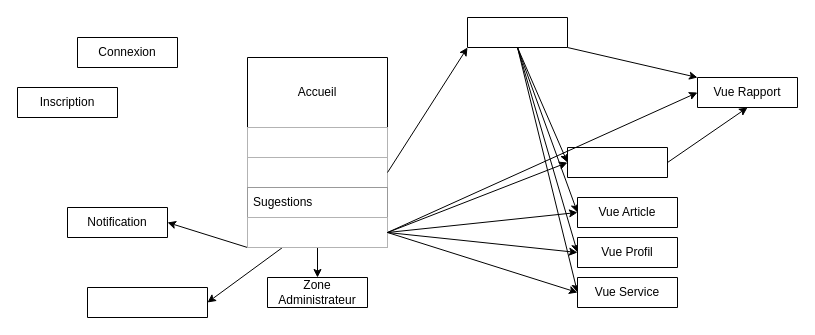
Some shapes in this 815 by 335 pixel diagram are drawn without their labels. The box of each missing label's shape, as (x1, y1, x2, y2) in pixels:
Epinglés: (246, 216, 388, 248)
Profil Utilisateur: (86, 286, 208, 318)
Recherche: (466, 16, 568, 48)
Types (Social, Objet, Service, Article): (246, 156, 388, 188)
Vue Object: (566, 146, 668, 178)
